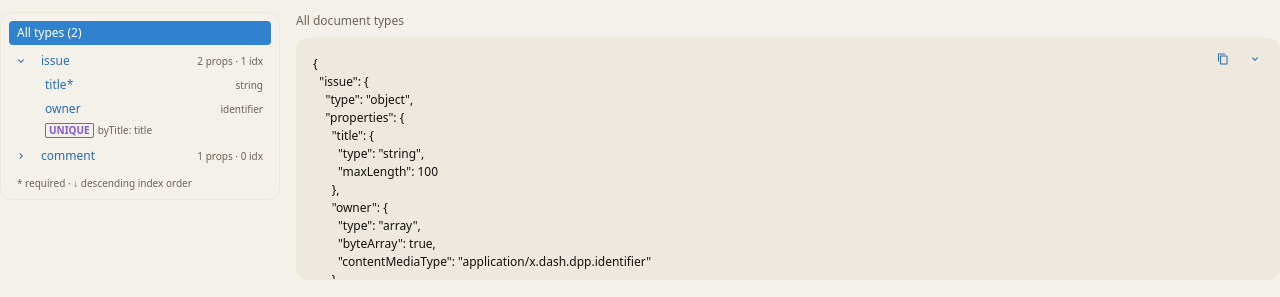
Scenario: SchemaNavigator › lists document types with properties and indices and narrows the JSON to a selection
Expected: the text "issue" is shown, [41,54,70,68]
Expected: the text "identifier" is shown, [220,103,263,115]
Click the button "title* string" at [154, 85], box [37,73,271,97]
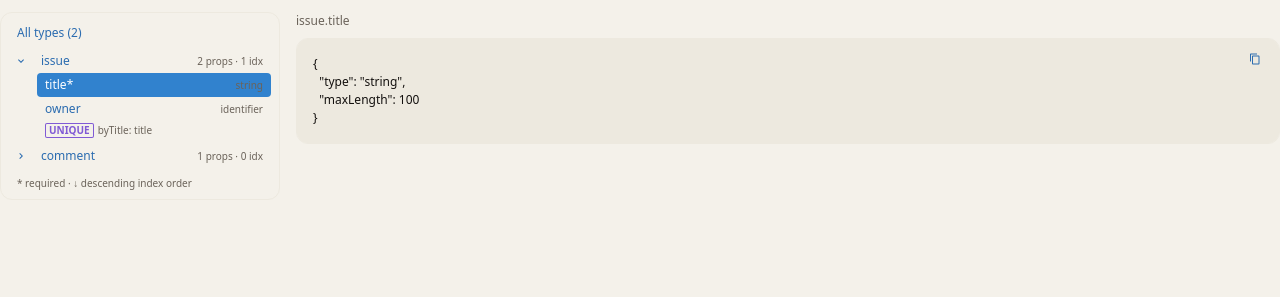
Expected: the text "{ \"type\": \"string\", \"maxLength\": 100 }" is shown, [297,39,1279,143]
Expected: the text "issue.title" is shown, [296,12,350,29]
Expected: the text "\"comment\"" is gone
